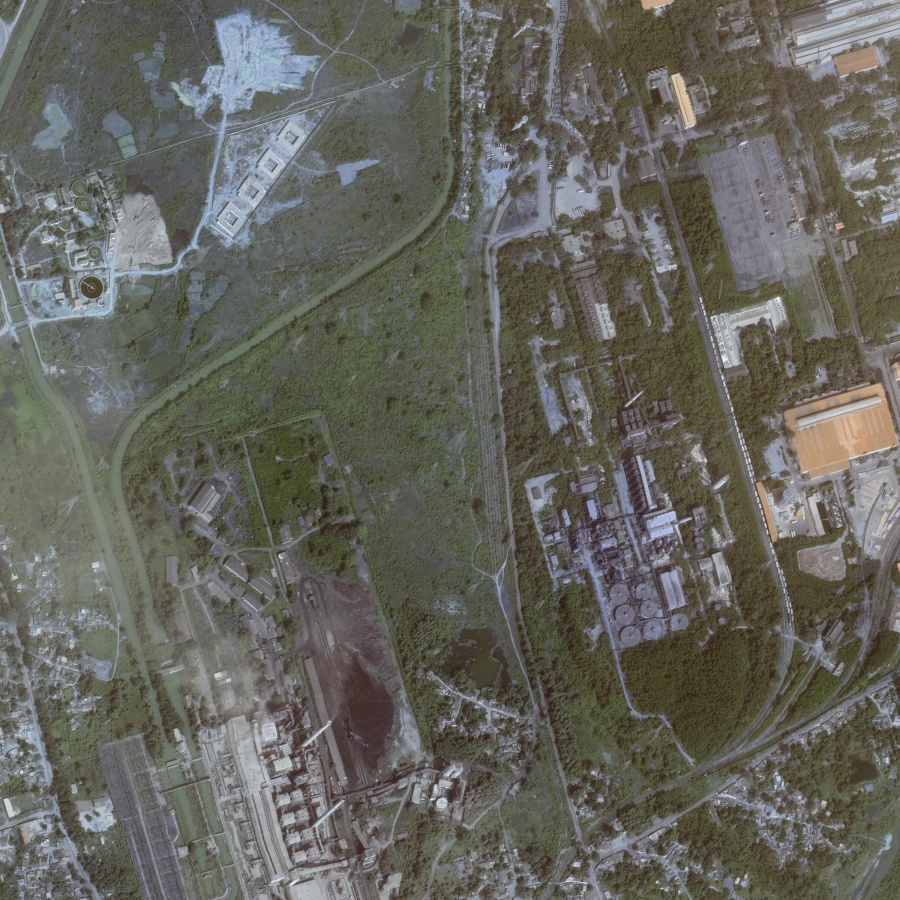PowerPlant: (207, 565, 404, 862)
